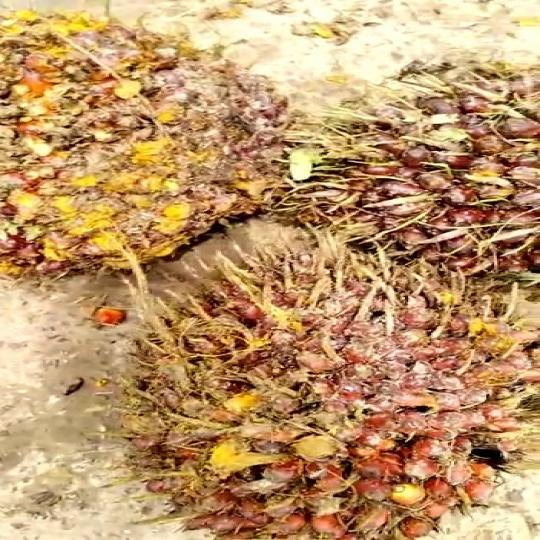masak: (115, 250, 538, 540), (0, 8, 327, 282), (287, 52, 540, 279)
